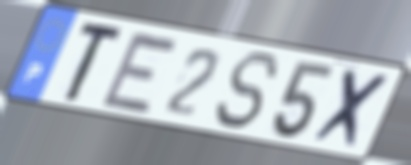2: (160, 47, 222, 119)
5: (269, 57, 339, 141)
E: (97, 27, 183, 117)
S: (213, 48, 283, 132)
T: (60, 21, 129, 104)
X: (308, 65, 396, 153)
